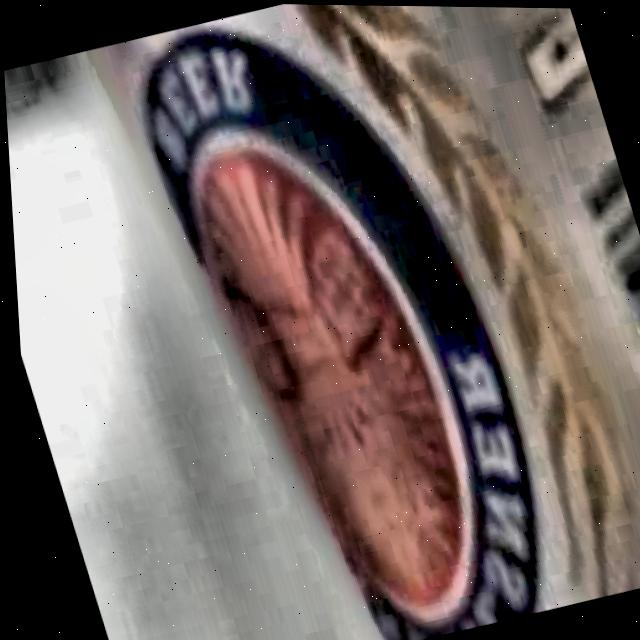metal: (8, 0, 640, 640)
